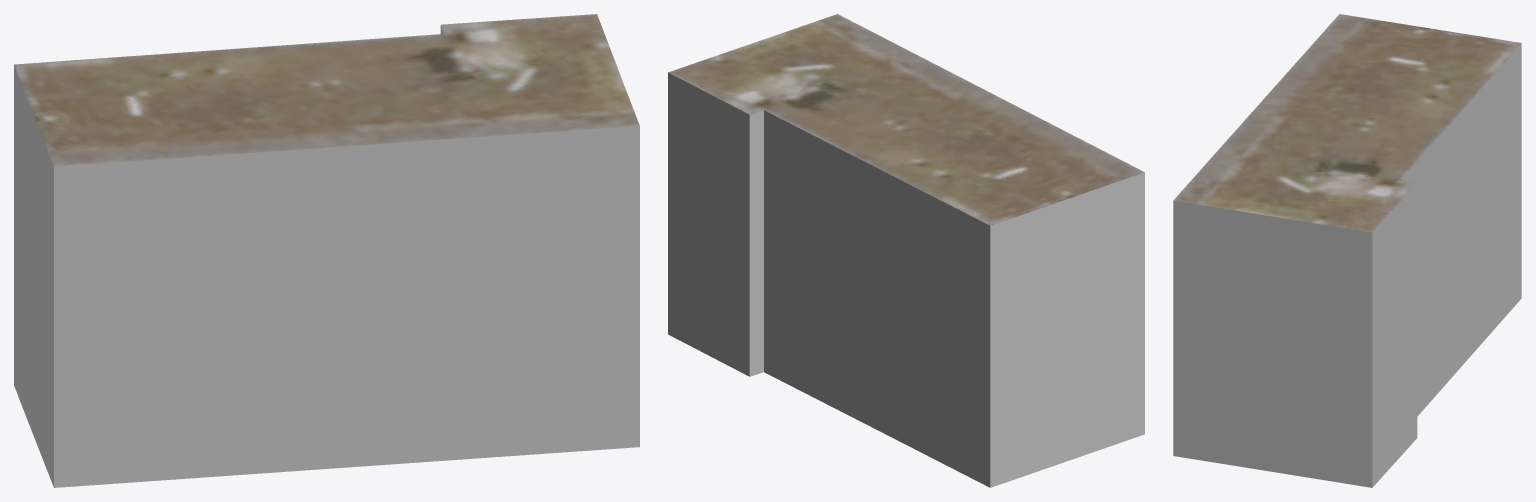
Rendered from DEBW_0010007TxfJ.gltf.
The picture shows the model from 3 angles, left to right: view 1: azimuth 30°, elevation 25°; view 2: azimuth 150°, elevation 25°; view 3: azimuth 270°, elevation 25°; orthographic projection. The views are drawn at different scales.
Visible parts, largest first — view 1: Z_UP; view 2: Z_UP; view 3: Z_UP.
Part boxes in pixels (bbox=[...]): Z_UP: bbox=[14, 14, 639, 487]; Z_UP: bbox=[668, 14, 1144, 487]; Z_UP: bbox=[1173, 14, 1521, 487].
Bounding box in the file's own units: 28.5 × 15.52 × 19.2.
2 materials, 1 textured.
